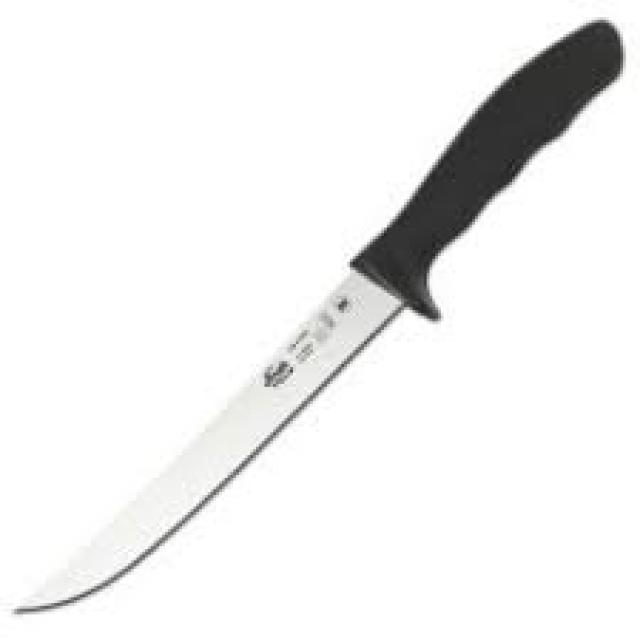knife: (16, 17, 633, 625)
